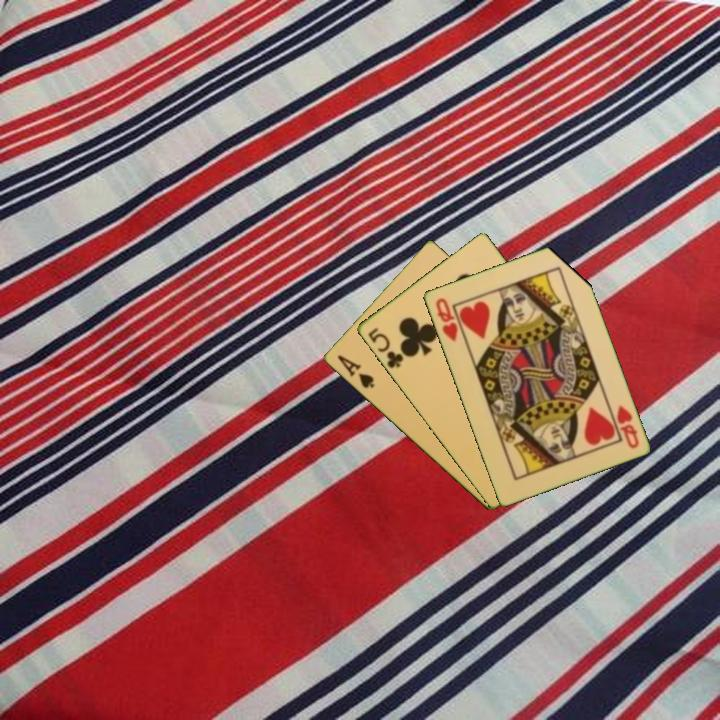5c: (364, 324, 406, 371)
As: (333, 351, 377, 391)
Qh: (432, 294, 460, 344), (613, 401, 641, 451)
